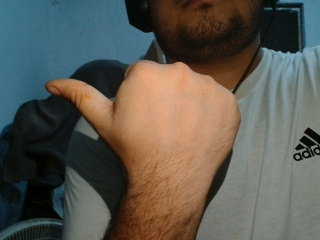Derecha: (39, 52, 250, 184)
